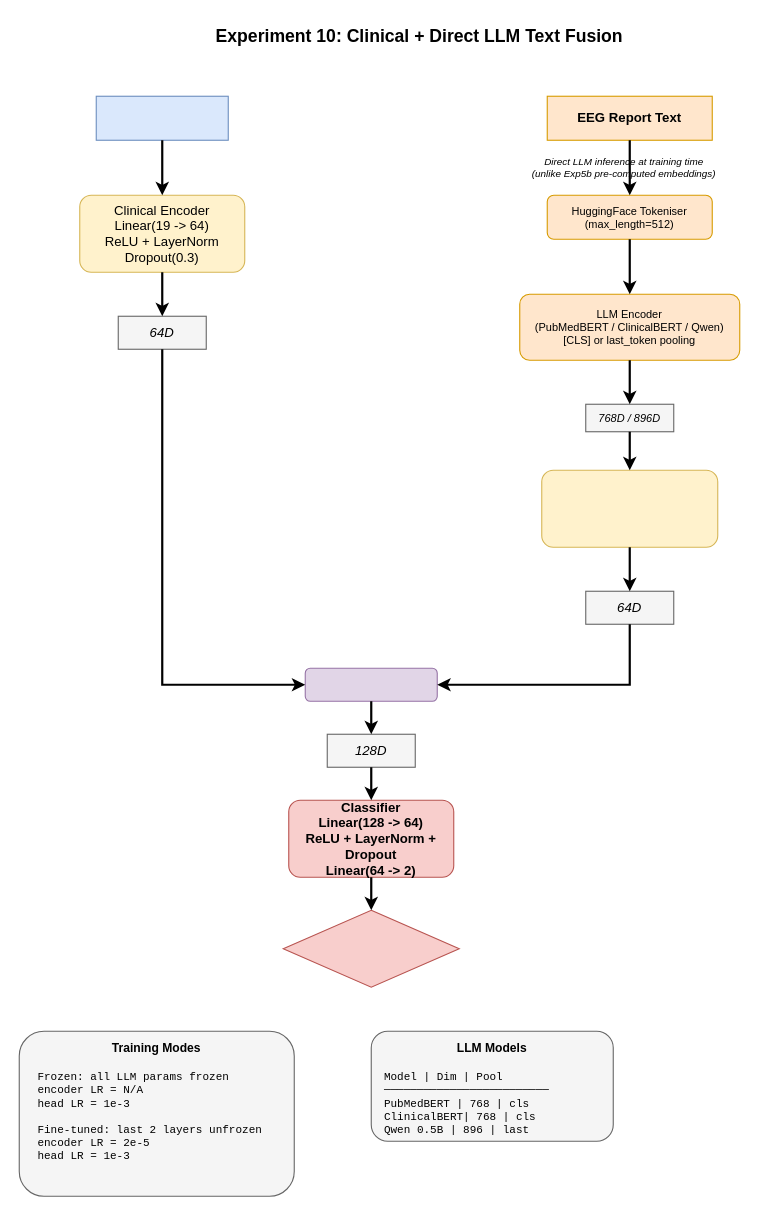
The diagram is 765 pixels wide and 1216 high, and some of its shapes have lost their labels. The shapes that lost their labels are listed below. From the top down, each one's box as (x1, y1, x2, y2) in pixels, then its label:
(95, 95, 228, 140): Clinical Features (19D)
(541, 469, 718, 547): Text Encoder Linear(768/896 -> 64) ReLU + LayerNorm Dropout(0.3)
(304, 667, 437, 701): Concatenate
(282, 909, 459, 987): Prediction (Success / Failure)
